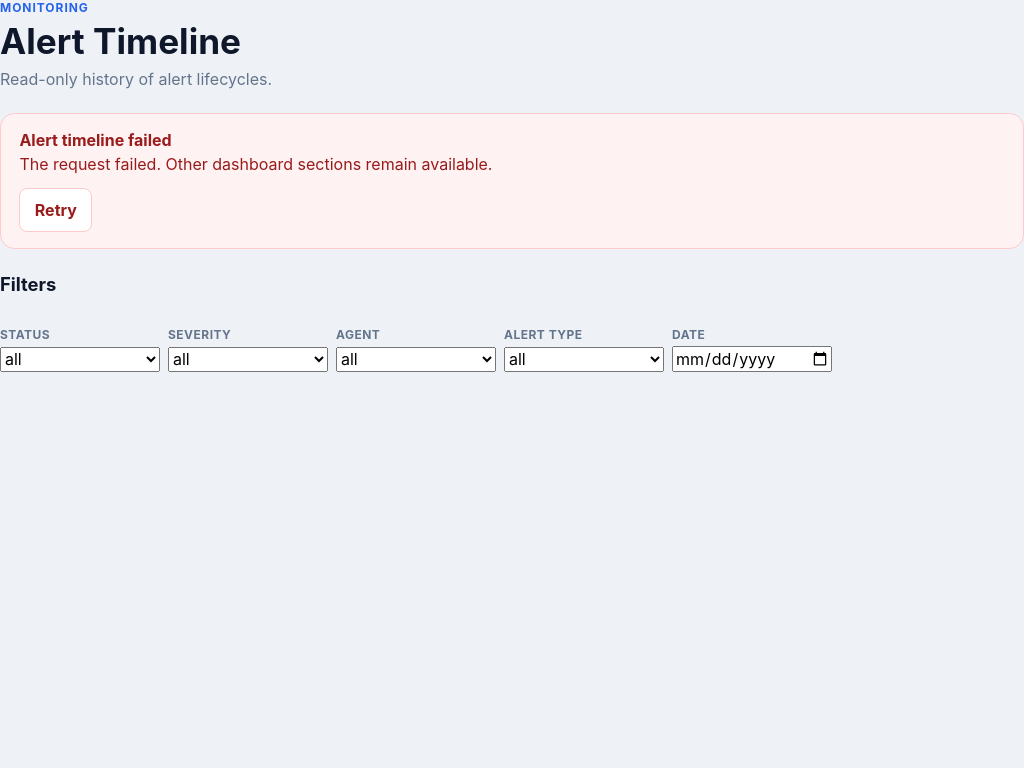
Test: Alert Timeline page › retries after an error
Expected: the text "Alert timeline failed" is shown, [19, 130, 172, 150]
Click the button with aria-label "Retry section" at [56, 210], box [19, 188, 92, 232]
(page scrolled)
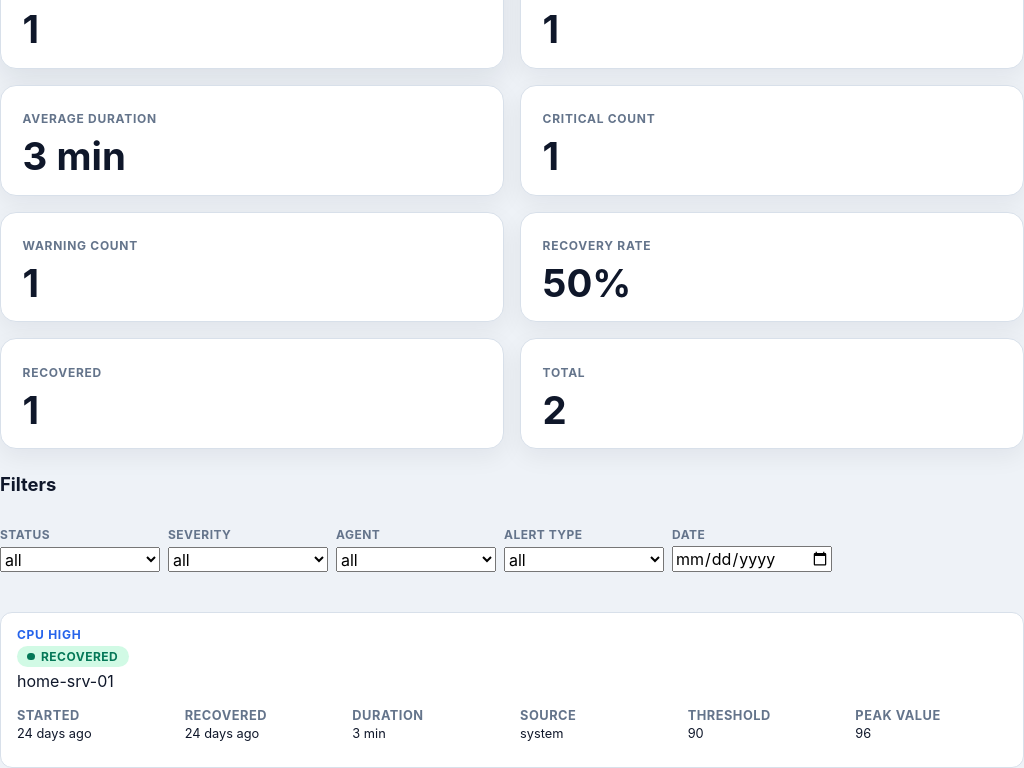
Expected: the list named "Alert timeline" is shown, [0, 612, 1023, 767]
